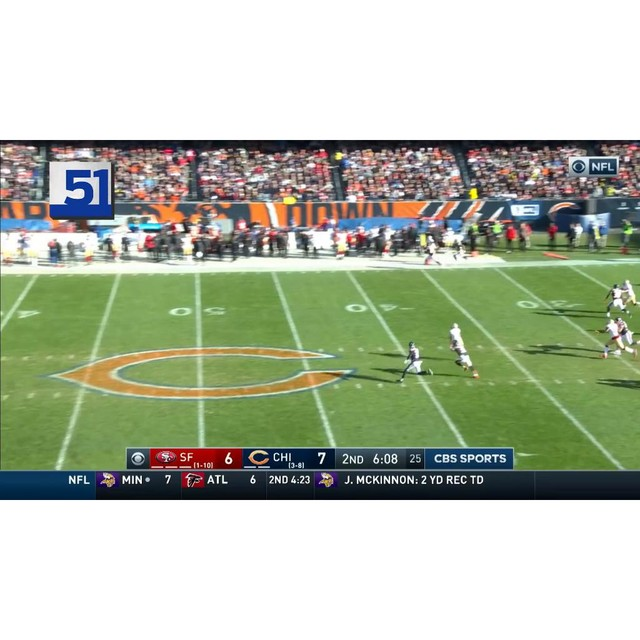american-football-player: (398, 341, 433, 382), (595, 318, 628, 358), (452, 341, 480, 378), (602, 282, 630, 319), (615, 317, 638, 349), (621, 280, 639, 308), (448, 322, 463, 349)
